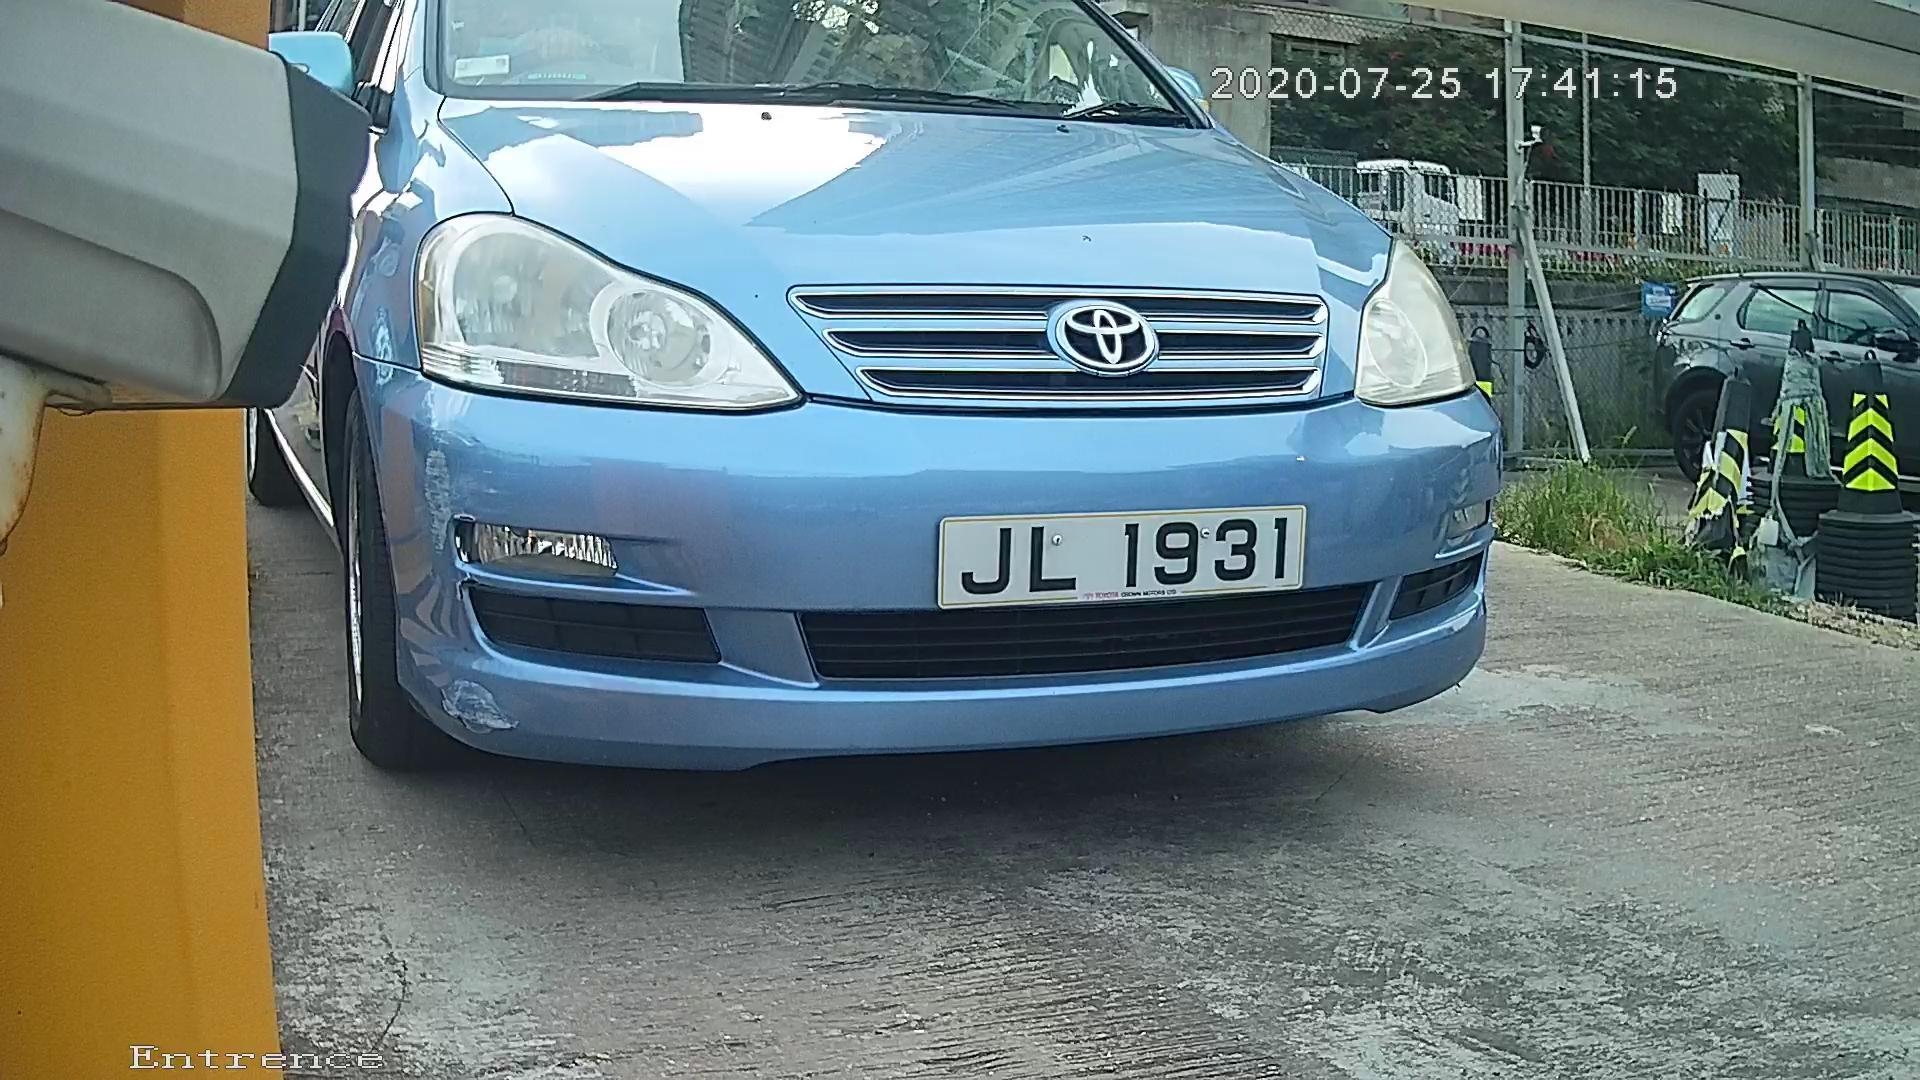privatecar: (215, 5, 1655, 815)
